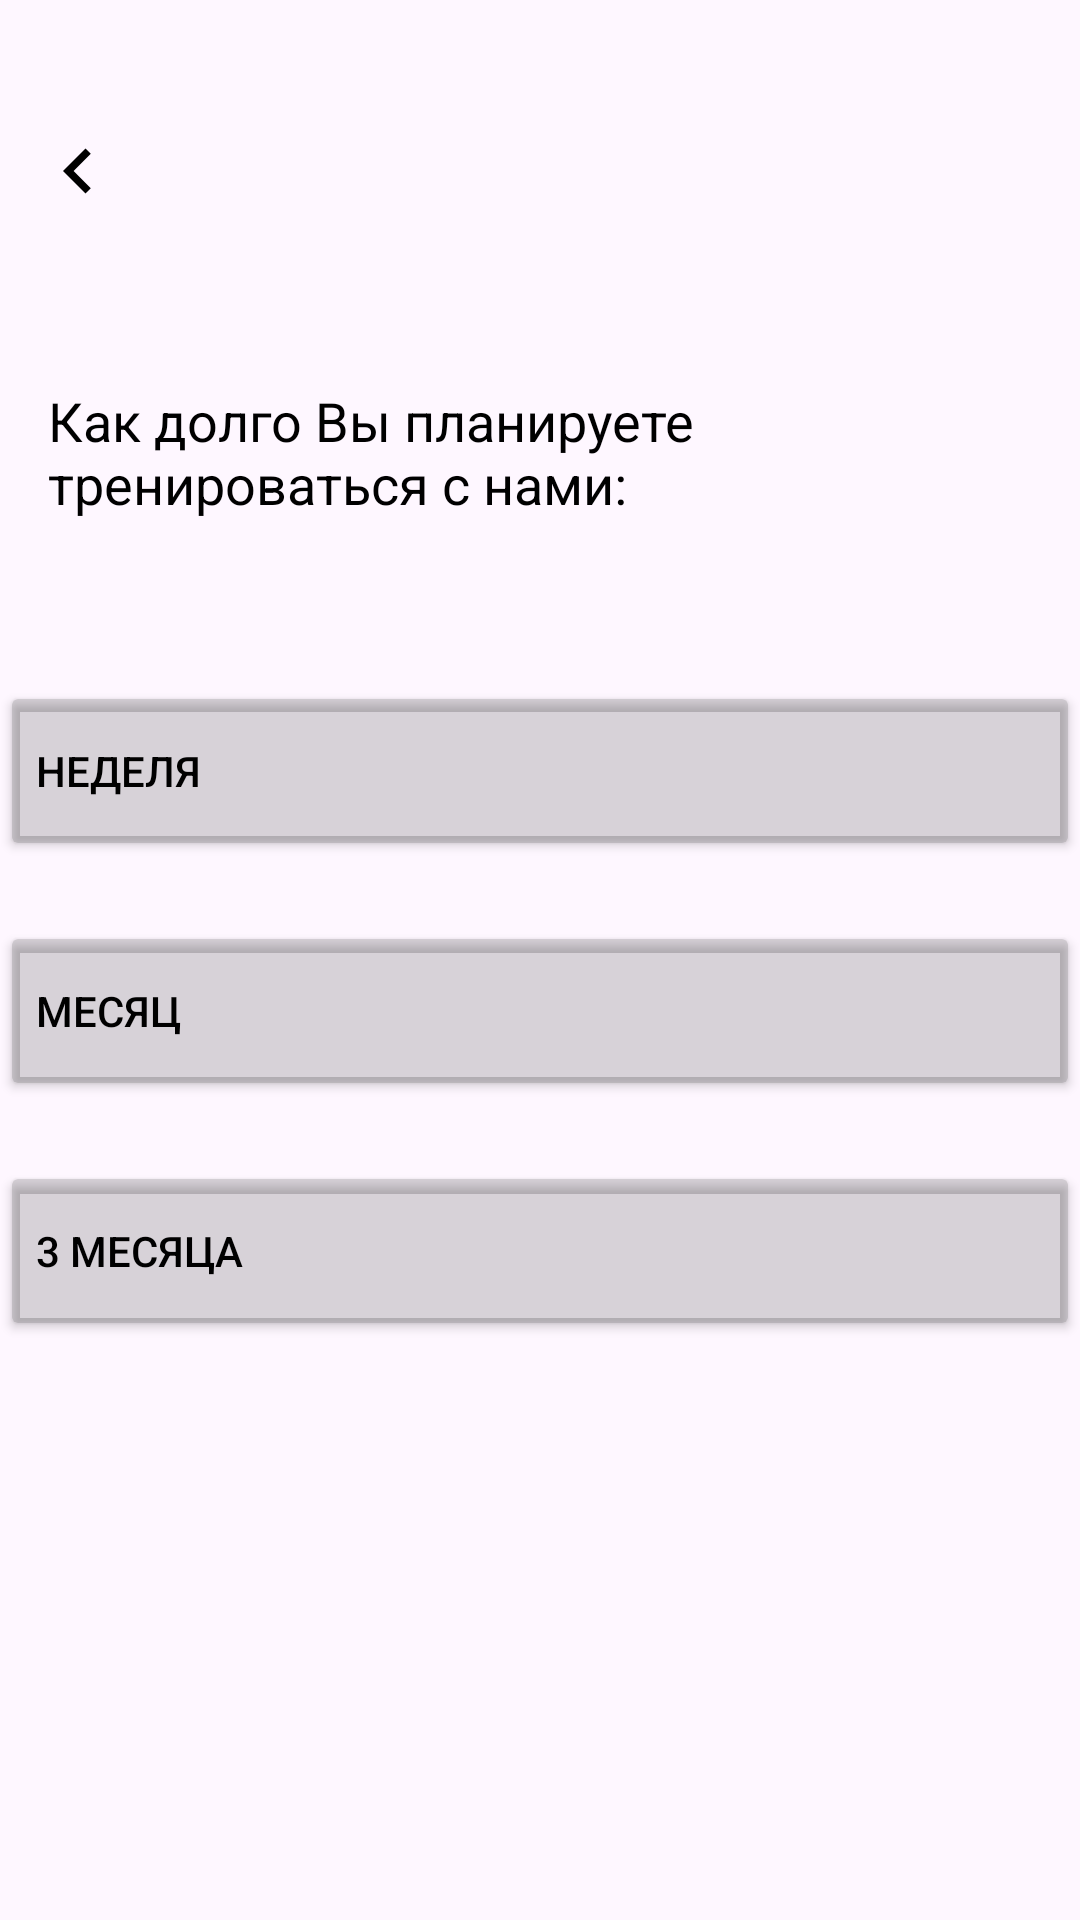

Icon click points for this 1080x1920 phone screenshot, format point (x, y):
Нажмите, если хотите вернуться на предыдущий экран: point (77, 171)
